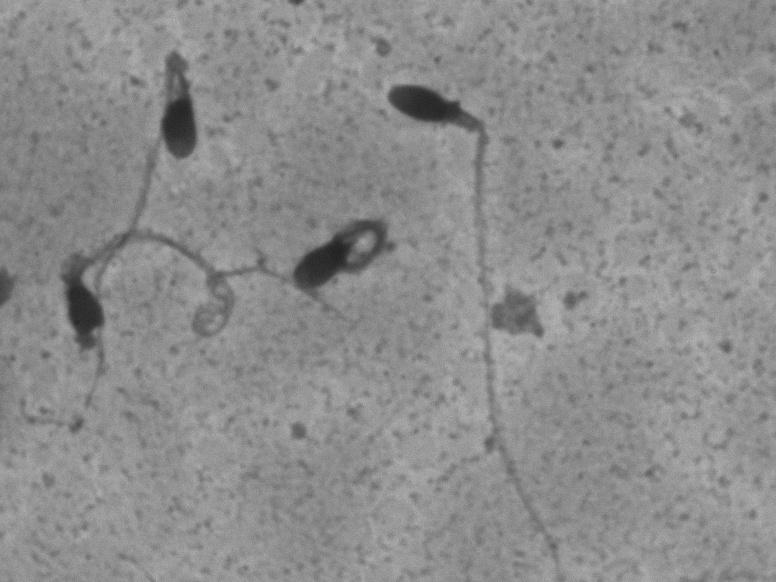Abnormal: (372, 75, 582, 563), (107, 40, 246, 209), (289, 206, 396, 303)
